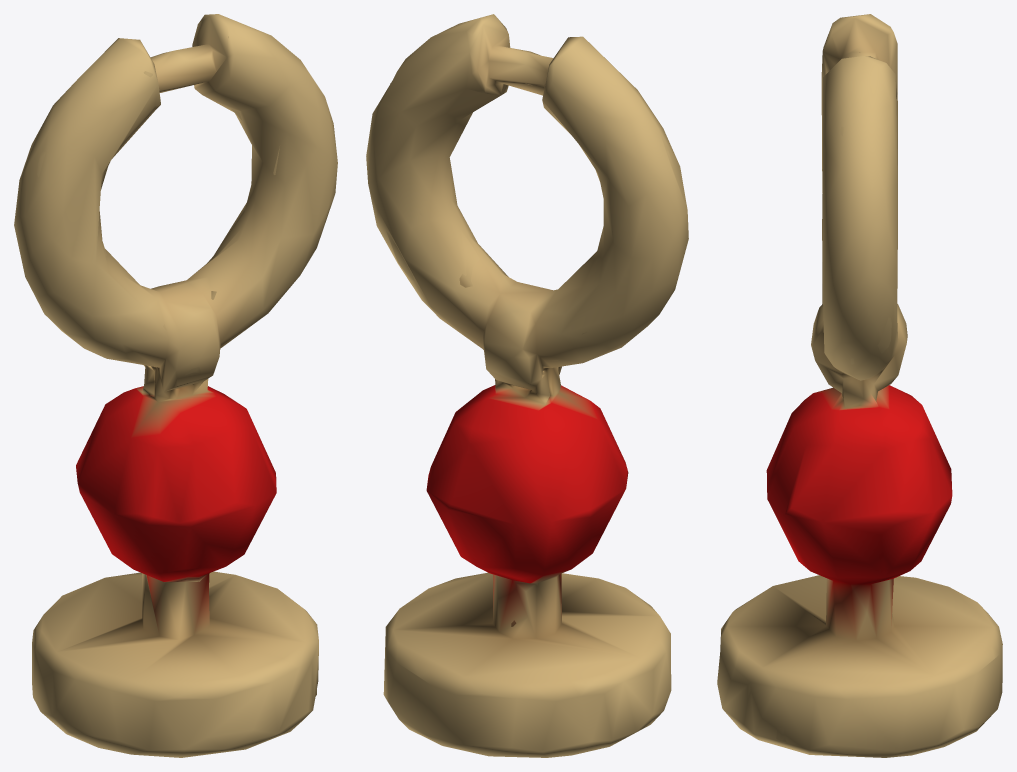
Rendered from gen3d-earring-lod1.glb.
3 views of the same model, side by side, from view 1: azimuth 30°, elevation 25°; view 2: azimuth 150°, elevation 25°; view 3: azimuth 270°, elevation 25° (orthographic).
Parts seen in each view (by area): view 1: part_0; view 2: part_0; view 3: part_0.
Boxes of the visible parts, x1,y1,x2,y2 form: part_0: (14, 14, 337, 757); part_0: (366, 14, 688, 757); part_0: (717, 14, 1002, 757).
Size of the model in its own units: 0.4615 by 0.9998 by 0.3673.
